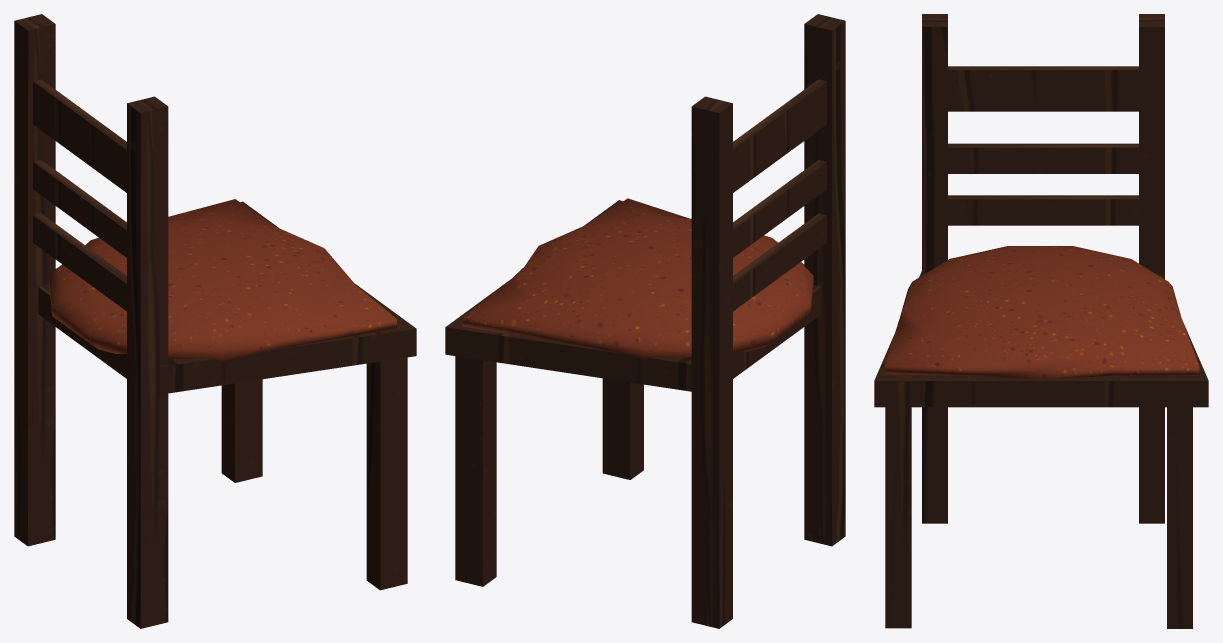
File: Stoel.fbx
3 views of the same model, side by side, from view 1: azimuth 30°, elevation 25°; view 2: azimuth 150°, elevation 25°; view 3: azimuth 270°, elevation 25° (orthographic). The views are drawn at different scales.
Visible parts, largest first — view 1: pSphere2; view 2: pSphere2; view 3: pSphere2.
Part boxes in pixels (x1,y1,x2,y2): pSphere2: (14, 14, 416, 628); pSphere2: (445, 14, 845, 628); pSphere2: (874, 14, 1208, 628).
Bounding box in the file's own units: 2.41 × 4.58 × 2.79.
